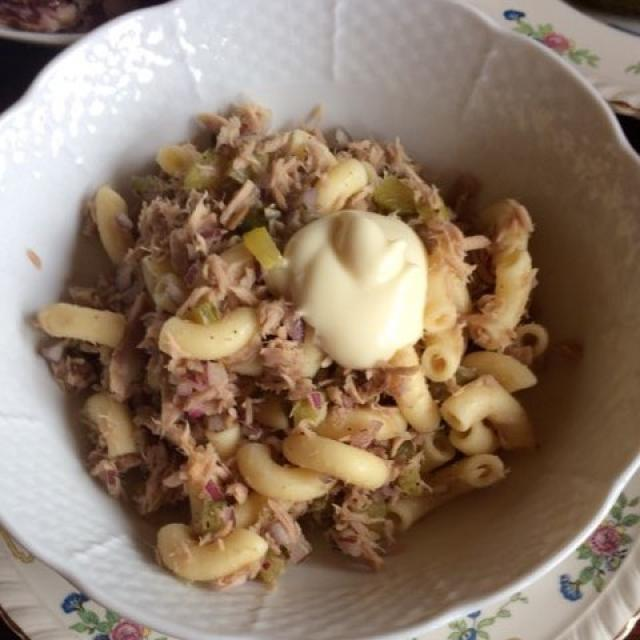mayonnaise: (266, 203, 450, 379)
pasta: (42, 115, 547, 578)
tuna: (46, 110, 541, 581)
